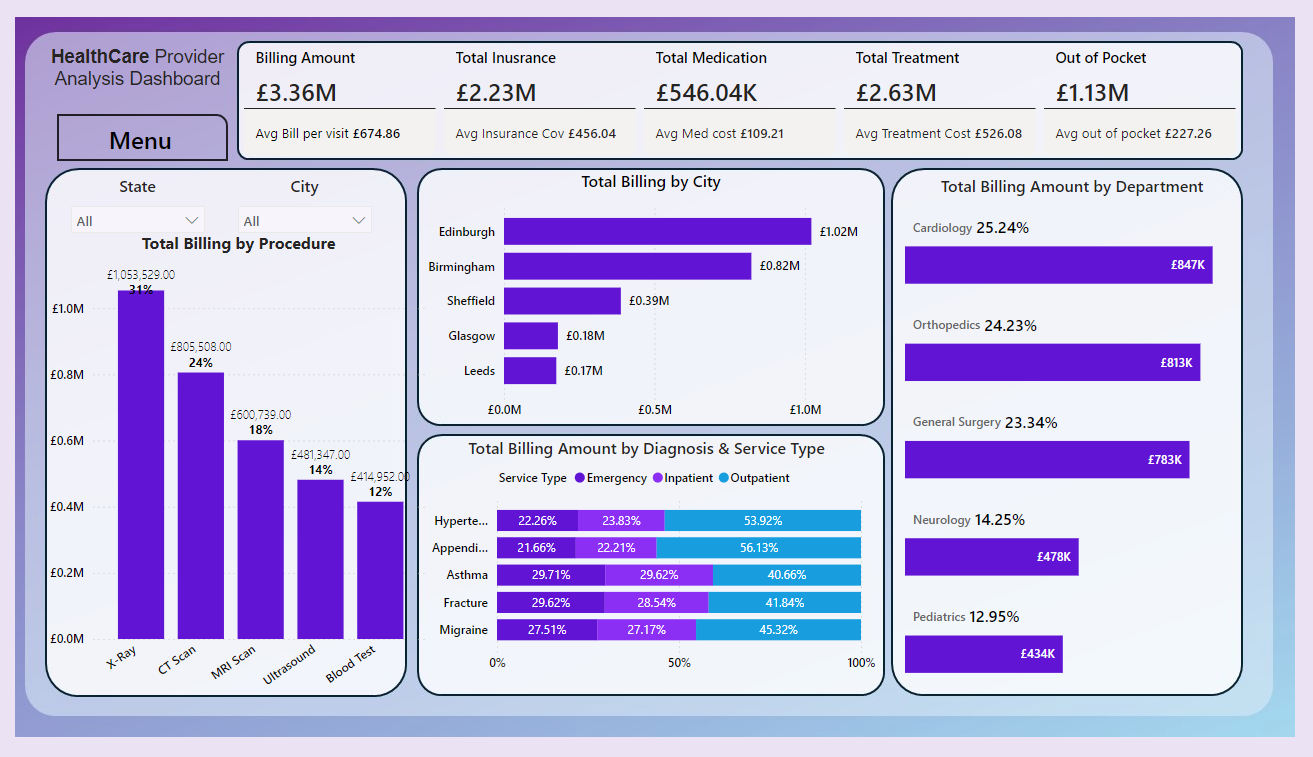

The dashboard page shown, as its layout file describes it:
{"tool":"powerbi","page":{"name":"Page 1","canvas":[1340,800],"ordinal":0},"visuals":[{"type":"clusteredBarChart","title":"Total Billing by City","fields":{"Category":["cities.City"],"Y":["Dax Cal.Total_billing"]},"box":[436.7,191.1,458.9,257.8],"z":0},{"type":"clusteredColumnChart","title":"Total Billing by Procedure","fields":{"Category":["procedures.Procedure"],"Y":["Dax Cal.Total_billing"]},"box":[59,253,390,474],"z":1000},{"type":"hundredPercentStackedBarChart","title":"Total Billing Amount by Diagnosis & Service Type","fields":{"Y":["Dax Cal.Total_billing"],"Category":["diagnoses.Diagnosis"],"Series":["visits.Service Type"]},"box":[428,458,468,244],"z":2000},{"type":"clusteredBarChart","title":"Total Billing Amount by Department","fields":{"Category":["departments.Department"],"Y":["Dax Cal.blank Measures","Dax Cal.Total_billing"]},"box":[915,196,345,506],"z":3000},{"type":"cardVisual","fields":{"Data":["Dax Cal.Total_billing","Dax Cal.Total Inusrance","Dax Cal.Total Medication","Dax Cal.Total Treatment","Dax Cal.Out_of_pocket"]},"box":[254,62,1006,120],"z":4000},{"type":"slicer","title":"State","fields":{"Values":["cities.State"]},"box":[76,196,154,65],"z":5000},{"type":"slicer","title":"City","fields":{"Values":["cities.City"]},"box":[243,196,154,65],"z":6000},{"type":"actionButton","title":"menu btn","box":[72,135,171,47],"z":7000},{"type":"textbox","box":[38,62,230,60],"z":12000}]}

Visuals, with their boxes in screenshot pixels (x1, y1, x2, y2):
"Total Billing by City" clusteredBarChart: 417,164,876,422
"Total Billing by Procedure" clusteredColumnChart: 39,226,429,701
"Total Billing Amount by Diagnosis & Service Type" hundredPercentStackedBarChart: 408,431,877,676
"Total Billing Amount by Department" clusteredBarChart: 896,169,1241,676
cardVisual - Dax Cal.Total_billing x Dax Cal.Total Inusrance: 234,35,1241,155
"State" slicer: 56,169,210,234
"City" slicer: 223,169,377,234
"menu btn" actionButton: 52,108,223,155
textbox: 18,35,248,95
